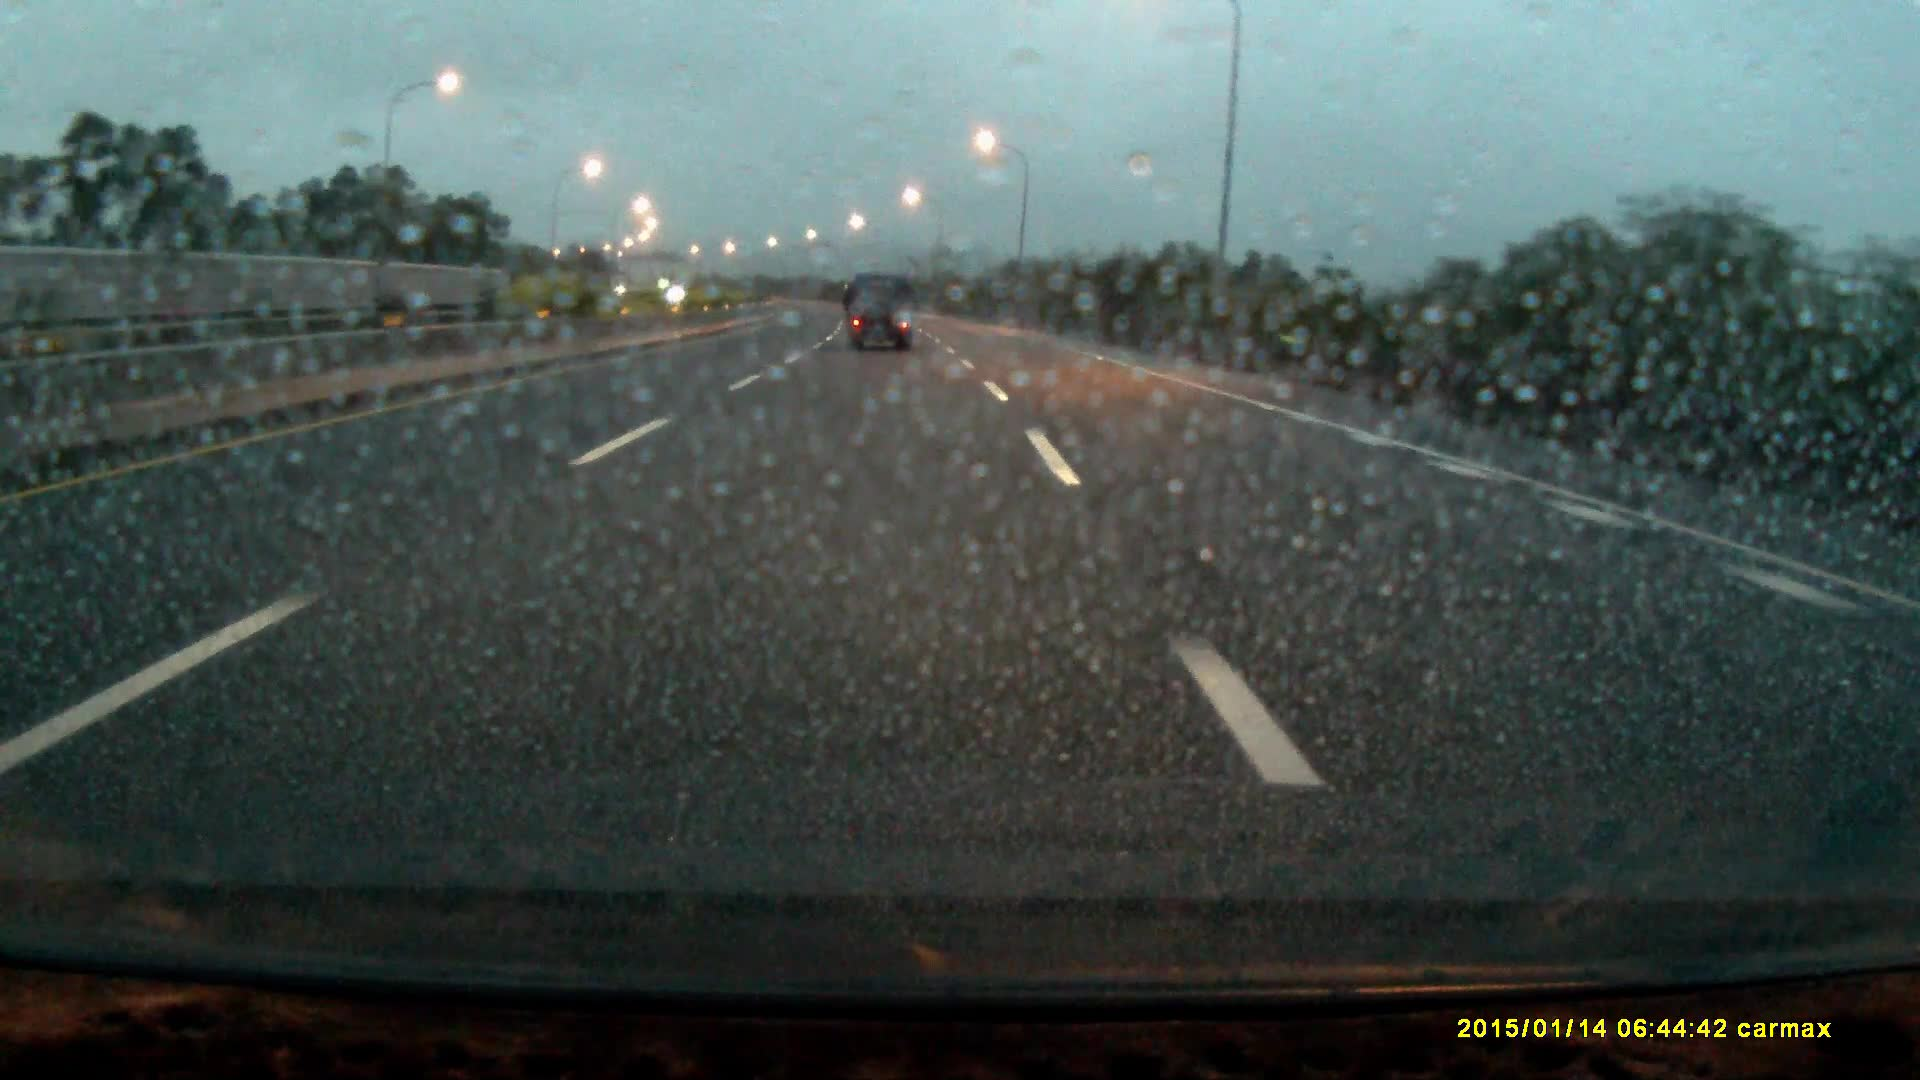vehicle: (849, 272, 914, 353)
